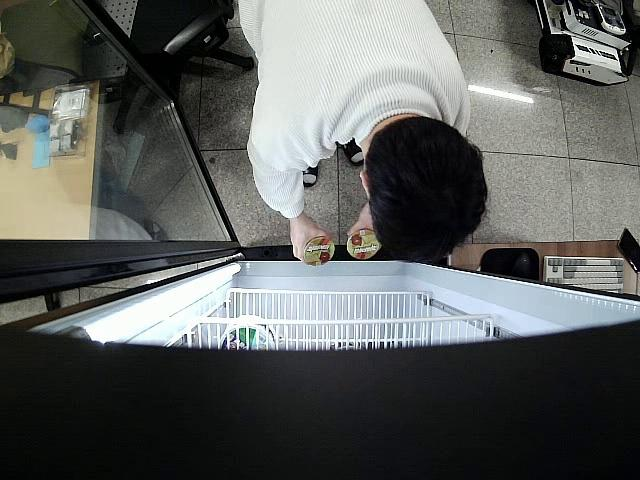00_hand: (291, 213, 329, 261), (347, 215, 375, 235)
04_chapagetti_S: (345, 228, 380, 260), (304, 235, 334, 266)
